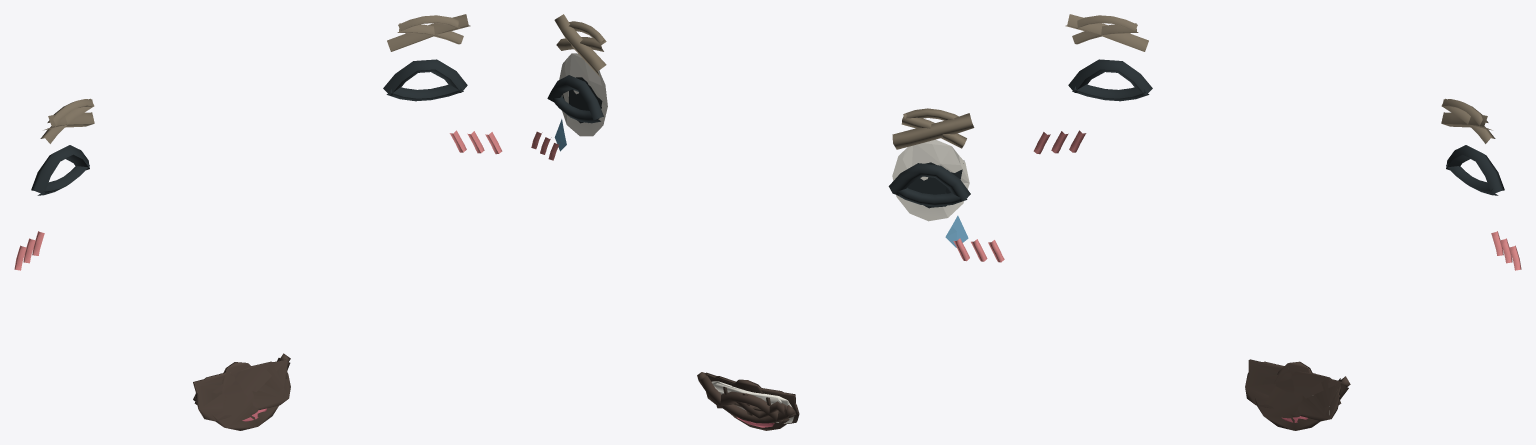
File: npc_face_bandi.glb
3 views of the same model, side by side, from view 1: azimuth 30°, elevation 25°; view 2: azimuth 150°, elevation 25°; view 3: azimuth 330°, elevation 25° (orthographic). The views are drawn at different scales.
Visible parts, largest first — view 1: mouth_x_grit, mouth_x_laugh, eyes_x_happy, eyes_x_angry, eyes_x_blink, eyes_x_shy, eyes_x_sad, eyes_x_surprised, mouth_x_o; view 2: eyes_x_surprised, eyes_x_angry, eyes_x_happy, eyes_x_sad, eyes_x_blink, eyes_x_shy, mouth_x_grin, mouth_x_laugh, mouth_x_grit, mouth_x_frown; view 3: mouth_x_grit, mouth_x_laugh, eyes_x_happy, eyes_x_angry, eyes_x_blink, eyes_x_shy, eyes_x_sad, eyes_x_surprised, mouth_x_o.
Boxes of the visible parts, bbox=[...] form: mouth_x_grit: bbox=[195, 361, 290, 421]; mouth_x_laugh: bbox=[193, 359, 287, 430]; eyes_x_happy: bbox=[31, 59, 467, 194]; eyes_x_angry: bbox=[43, 14, 470, 130]; eyes_x_blink: bbox=[37, 84, 463, 195]; eyes_x_shy: bbox=[14, 130, 502, 270]; eyes_x_sad: bbox=[40, 23, 463, 143]; eyes_x_surprised: bbox=[47, 15, 459, 127]; mouth_x_o: bbox=[222, 362, 258, 414]; eyes_x_surprised: bbox=[559, 21, 969, 221]; eyes_x_angry: bbox=[554, 14, 974, 190]; eyes_x_happy: bbox=[547, 75, 970, 201]; eyes_x_sad: bbox=[554, 37, 968, 247]; eyes_x_blink: bbox=[551, 95, 967, 206]; eyes_x_shy: bbox=[531, 107, 1004, 262]; mouth_x_grin: bbox=[697, 372, 795, 423]; mouth_x_laugh: bbox=[705, 372, 795, 430]; mouth_x_grit: bbox=[710, 376, 799, 423]; mouth_x_frown: bbox=[716, 391, 789, 423]; mouth_x_grit: bbox=[1245, 361, 1340, 421]; mouth_x_laugh: bbox=[1248, 359, 1341, 430]; eyes_x_happy: bbox=[1068, 59, 1504, 194]; eyes_x_angry: bbox=[1065, 14, 1492, 130]; eyes_x_blink: bbox=[1072, 84, 1498, 195]; eyes_x_shy: bbox=[1033, 130, 1521, 270]; eyes_x_sad: bbox=[1072, 23, 1495, 143]; eyes_x_surprised: bbox=[1076, 15, 1488, 127]; mouth_x_o: bbox=[1274, 361, 1312, 417].
Bounding box in the file's own units: 0.4341 × 0.3167 × 0.0424.
